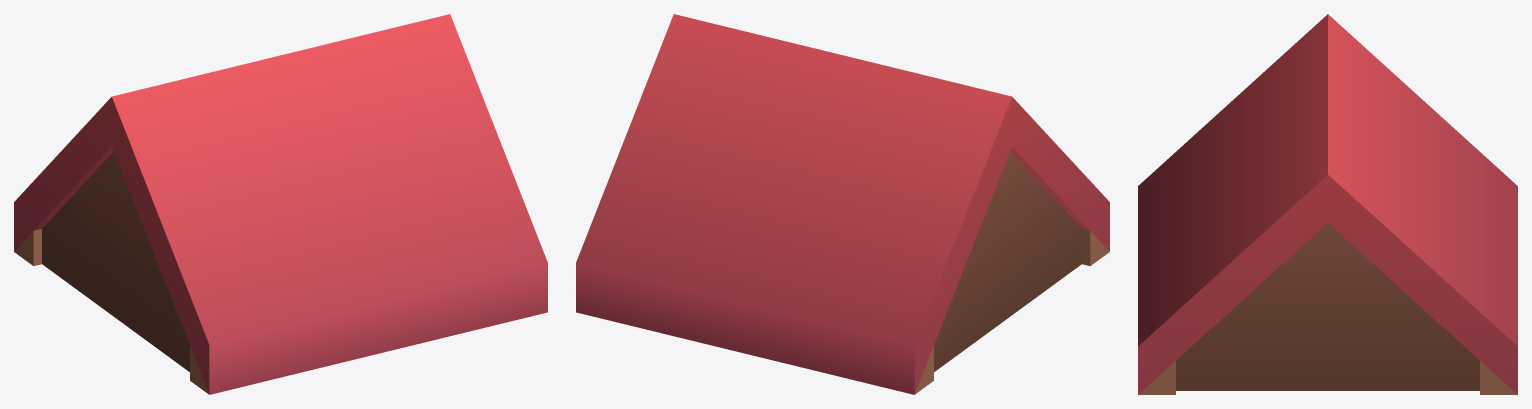
Rendered from roof-high-gable-top.glb.
The picture shows the model from 3 angles, left to right: view 1: azimuth 30°, elevation 25°; view 2: azimuth 150°, elevation 25°; view 3: azimuth 270°, elevation 25°; orthographic projection. The views are drawn at different scales.
Visible parts, largest first — view 1: roof-high-gable-top; view 2: roof-high-gable-top; view 3: roof-high-gable-top.
Part boxes in pixels (left/top/right/bottom): roof-high-gable-top: left=14, top=14, right=547, bottom=394; roof-high-gable-top: left=576, top=14, right=1109, bottom=394; roof-high-gable-top: left=1138, top=14, right=1517, bottom=394.
Size of the model in its own units: 1 by 0.6407 by 1.
Materials: 1 (1 with a texture image).
